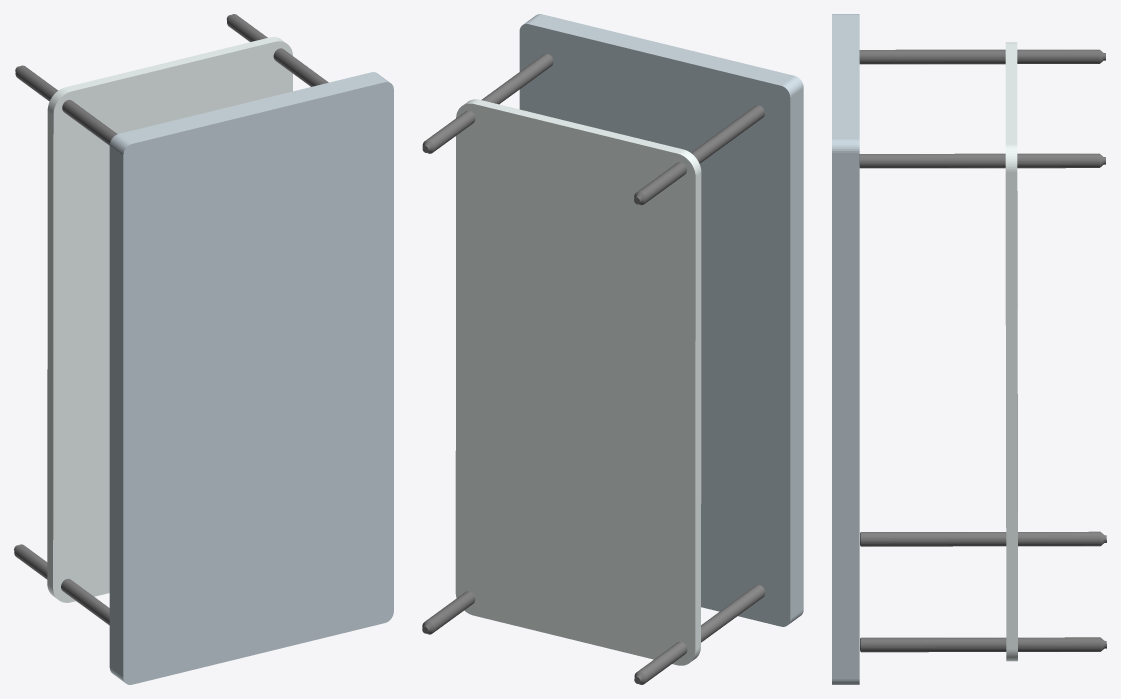
Rendered from tableMedium.dae.
The picture shows the model from 3 angles, left to right: view 1: azimuth 30°, elevation 25°; view 2: azimuth 150°, elevation 25°; view 3: azimuth 270°, elevation 25°; orthographic projection.
Visible parts, largest first — view 1: Cube, Cube.001, Cylinder.002, Cylinder.003, Cylinder.001; view 2: Cube.001, Cube, Cylinder.002, Cylinder.003, Cylinder.001, Cylinder; view 3: Cube, Cube.001, Cylinder.002, Cylinder.001, Cylinder, Cylinder.003.
Part boxes in pixels (x1,y1,x2,y2): Cube: (109, 72, 393, 684); Cube.001: (47, 37, 292, 602); Cylinder.002: (15, 65, 117, 145); Cylinder.003: (14, 544, 109, 625); Cylinder.001: (226, 14, 328, 86); Cube.001: (455, 99, 701, 665); Cube: (519, 14, 803, 626); Cylinder.002: (634, 105, 764, 205); Cylinder.003: (634, 584, 765, 684); Cylinder.001: (422, 53, 553, 153); Cylinder: (422, 591, 475, 634); Cube: (832, 14, 859, 684); Cube.001: (1005, 42, 1017, 661); Cylinder.002: (859, 49, 1105, 64); Cylinder.001: (859, 153, 1105, 168); Cylinder: (860, 637, 1106, 652); Cylinder.003: (860, 531, 1106, 546).
Size of the model in its own units: 0.309 by 0.2697 by 0.5903.
